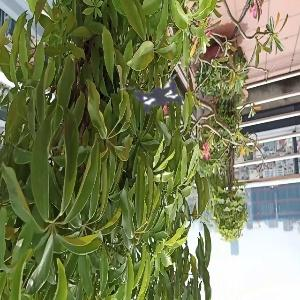drone: (102, 37, 216, 151)
